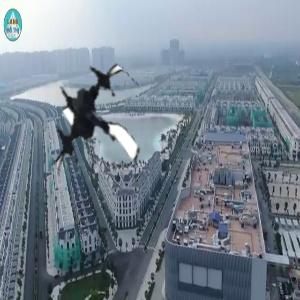drone: (33, 65, 164, 196)
